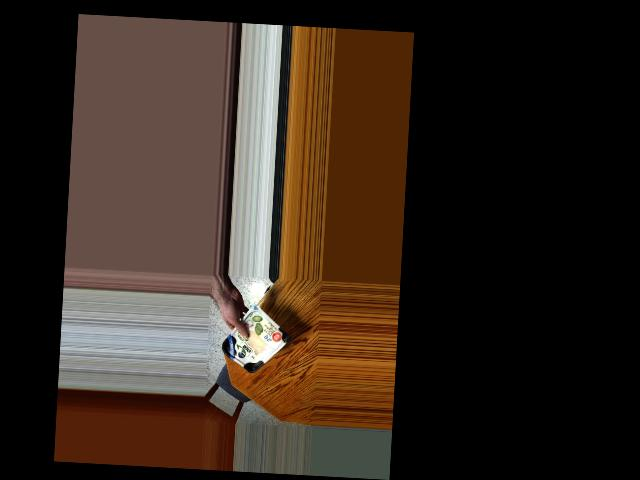cheese: (225, 314, 283, 375)
